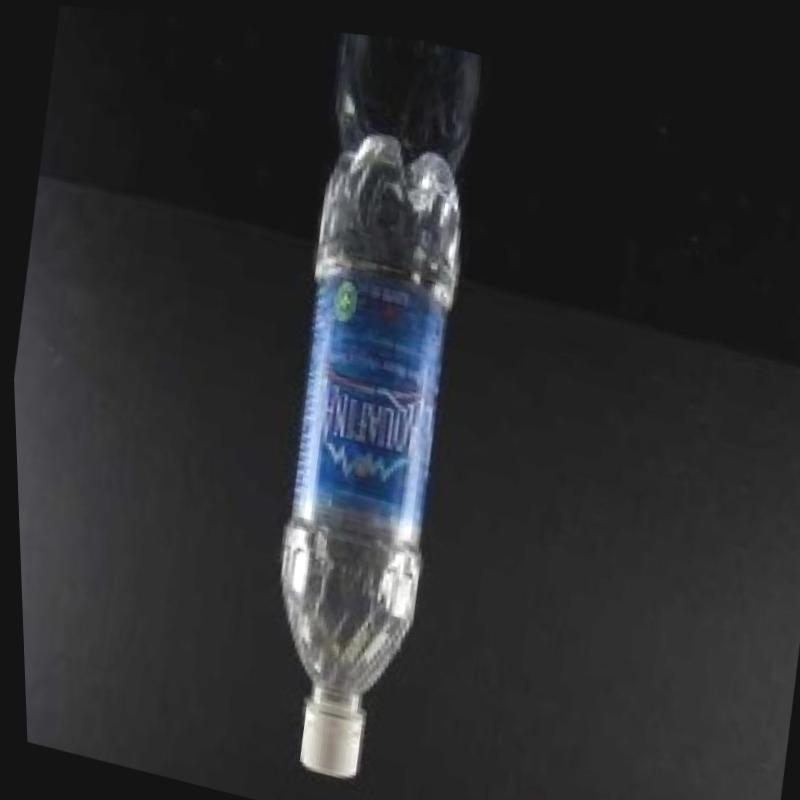botella: (208, 93, 490, 791)
